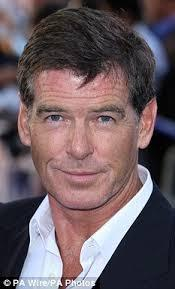normalEye: (34, 102, 129, 136)
normalMouth: (49, 160, 117, 189)
